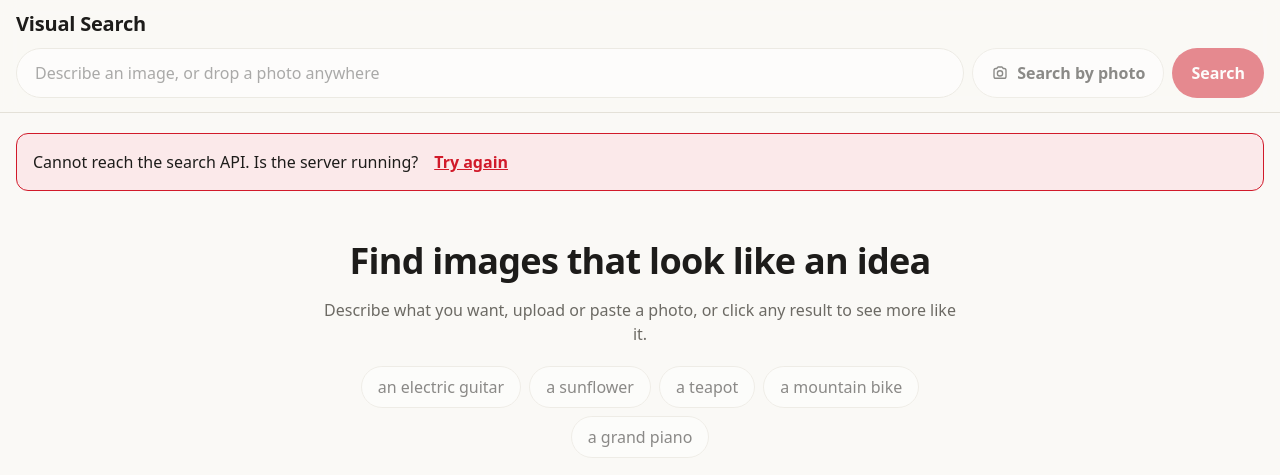
Test case: App › explains when the API cannot be reached and reconnects on request
Expected: the text "Cannot reach the search API. Is the server running?" is shown, [33,150,418,174]
Expected: the search field is disabled, [16,48,964,98]
Click the button "Try again": click(471, 162) [426,146,516,178]
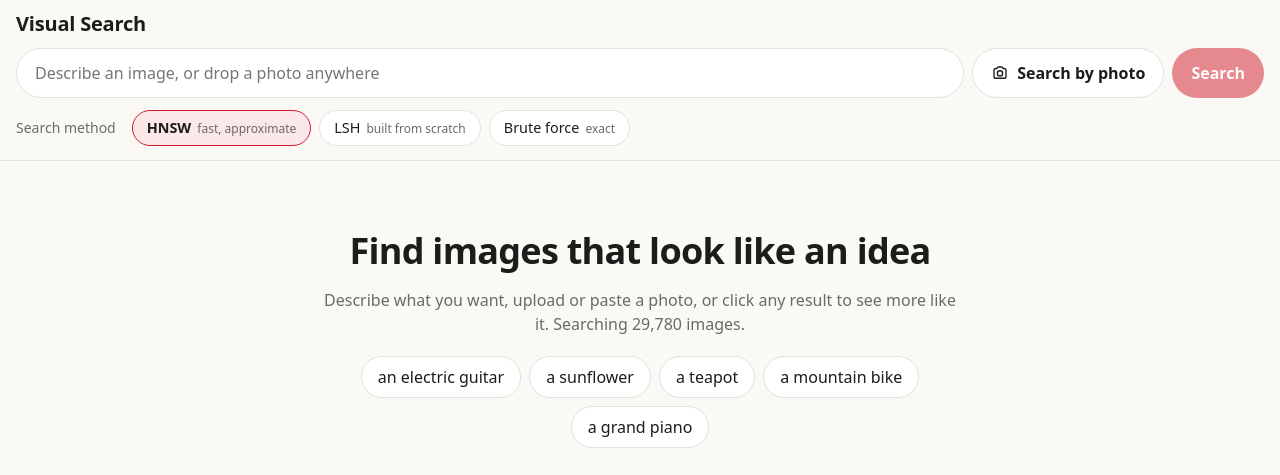
Expected: the search field is enabled, [16,48,964,98]
Expected: the text "Cannot reach" is gone
